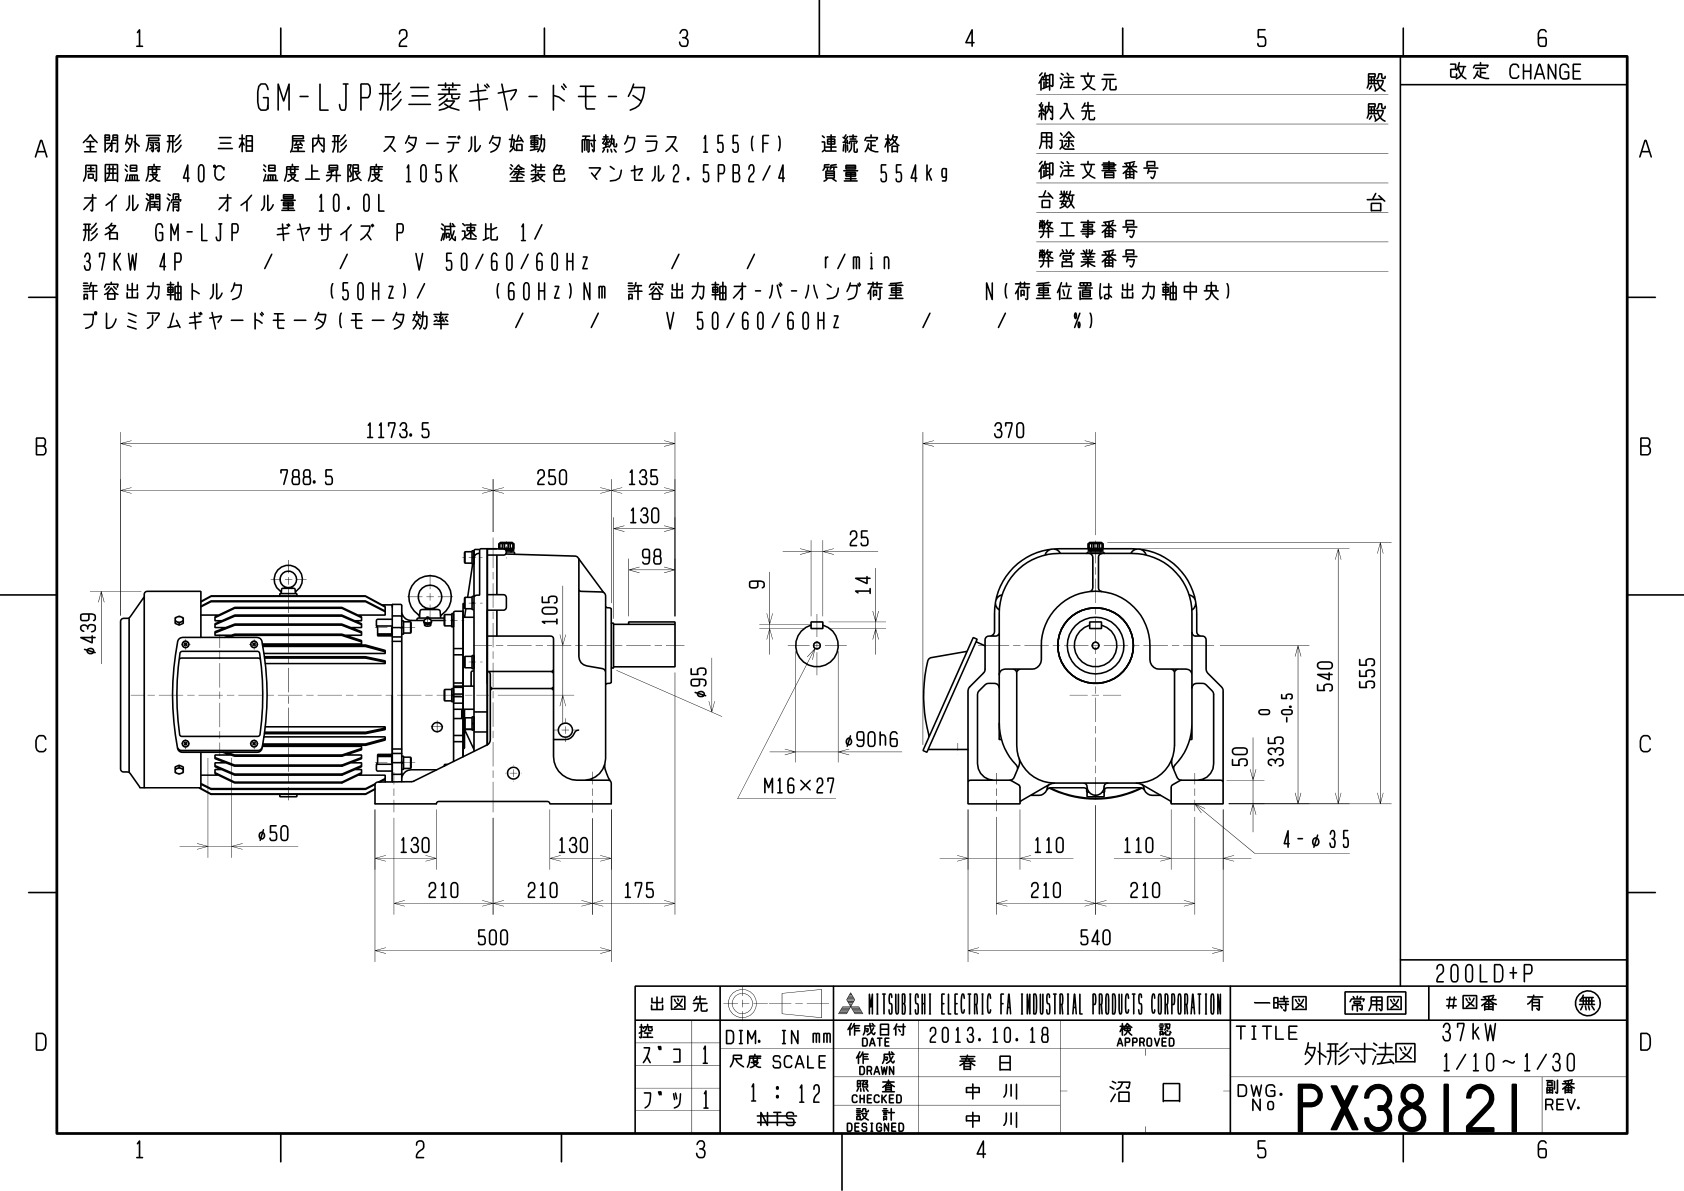GM_LJP_屋内_三相_脚: (1, 1, 1671, 1176)
